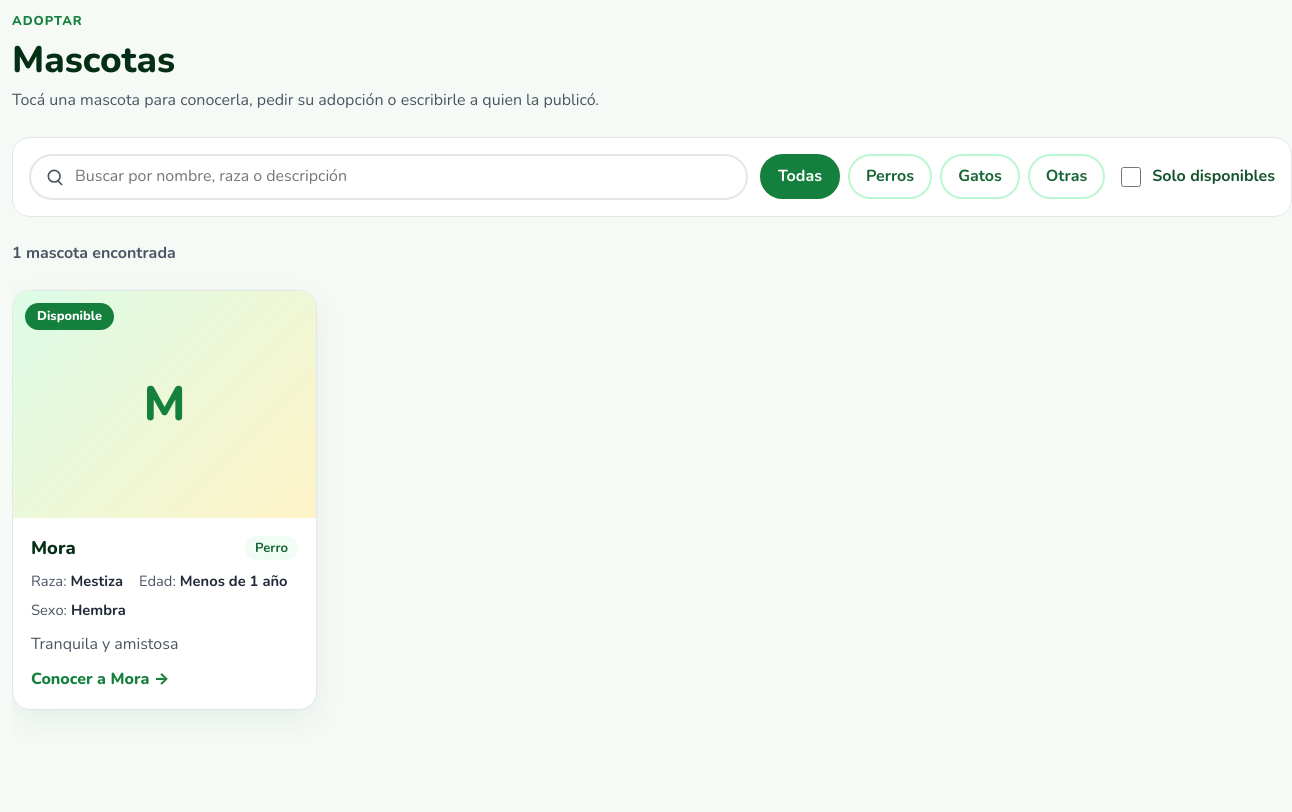
Test case: MascotaDetailPage › permite navegar del listado al detalle y volver
This screenshot has width=1292, height=812.
Click the link "Mora" at (164, 500), box [12, 290, 317, 710]
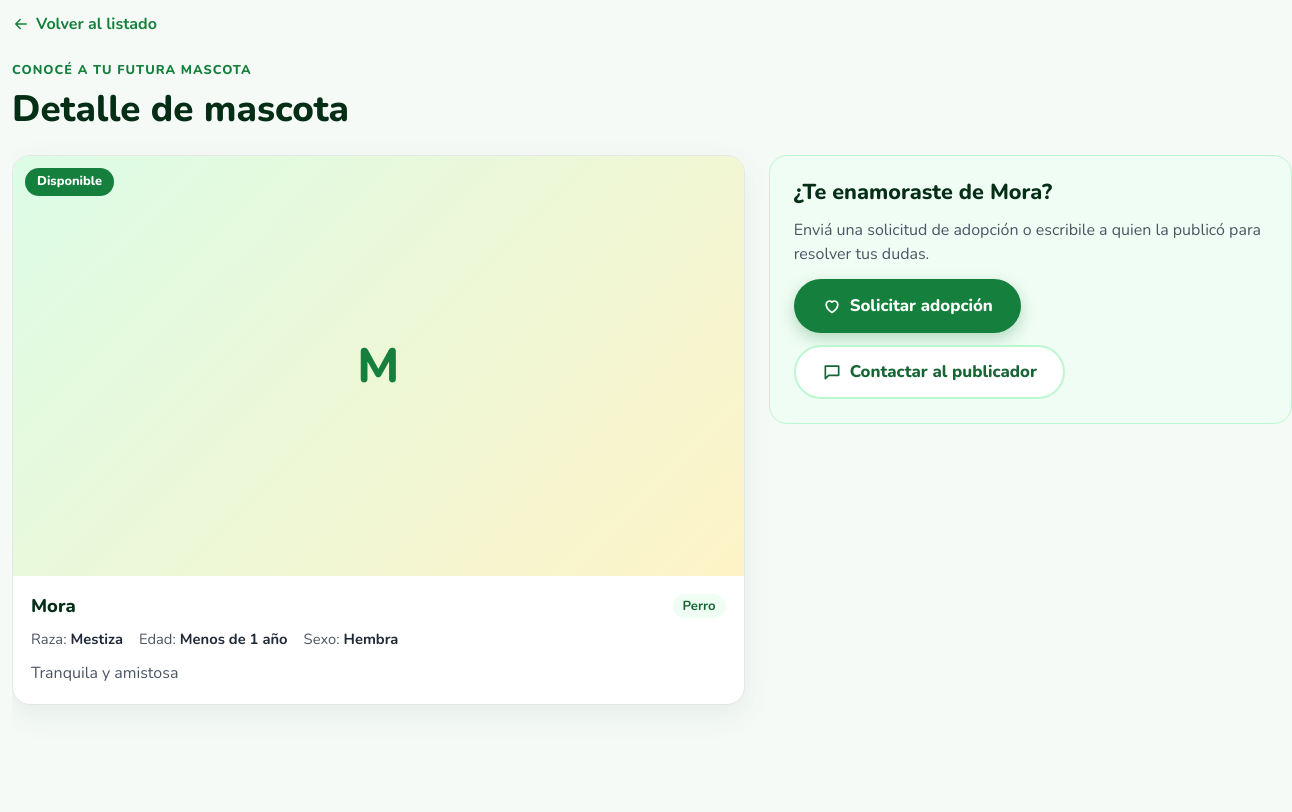
Expected: the heading "Detalle de mascota" is shown, [12, 87, 349, 131]
Click the link "Volver al listado" at (84, 24), box [12, 12, 157, 37]
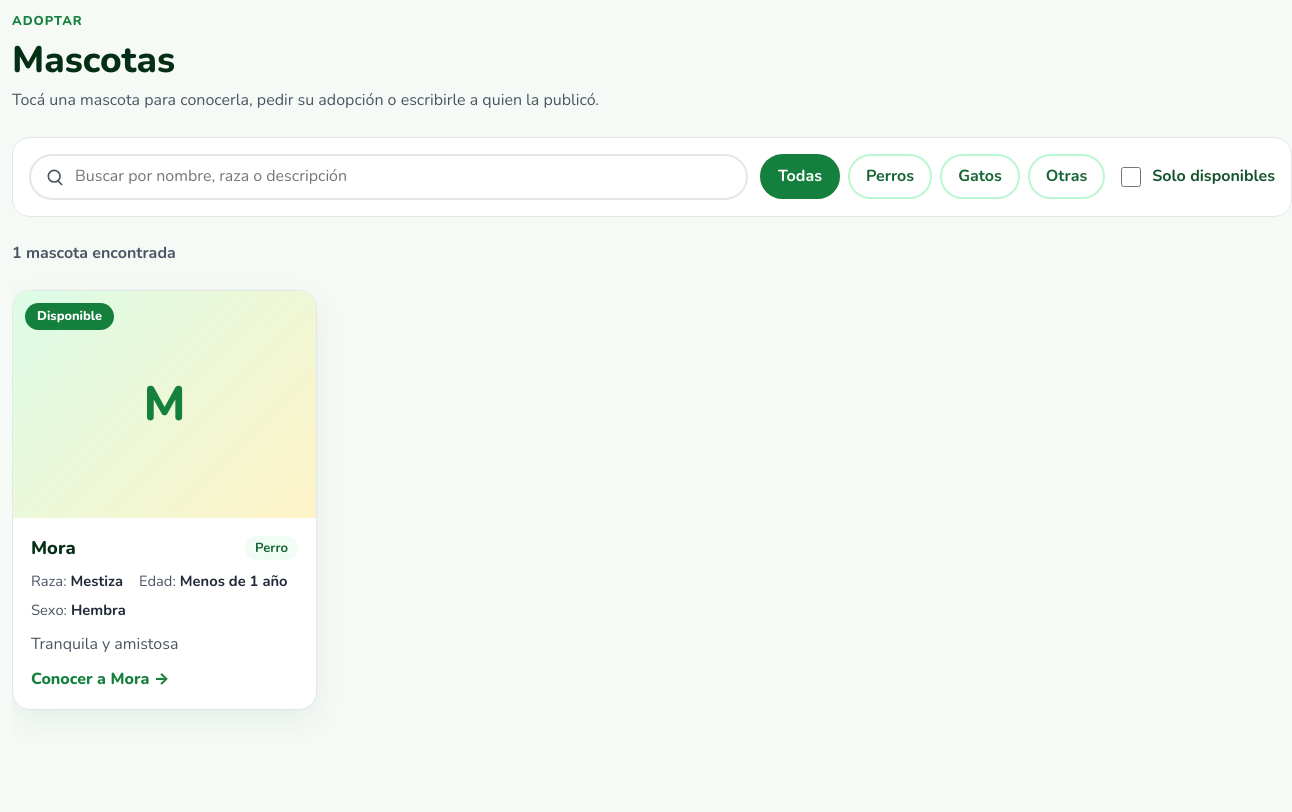
Expected: the heading "Mascotas" is shown, [12, 35, 175, 85]
Expected: the link "Mora" is shown, [12, 290, 317, 710]
